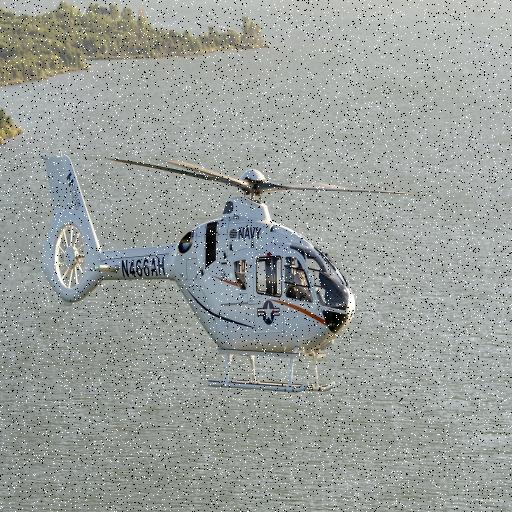helicopter: (22, 122, 408, 417)
